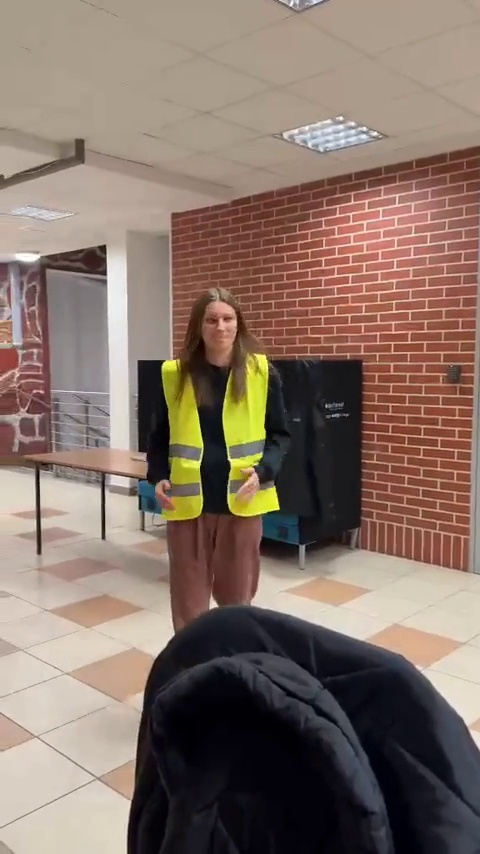vest: (139, 285, 295, 612)
